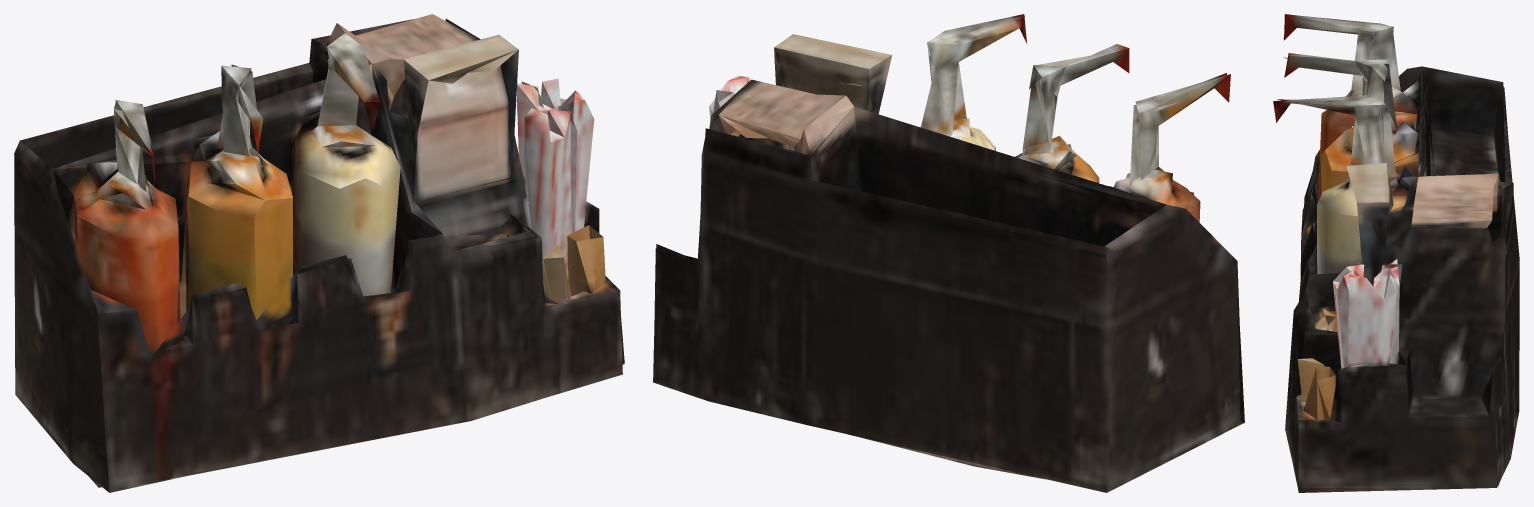
File: p7-condiment-station.glb
The picture shows the model from 3 angles, left to right: view 1: azimuth 30°, elevation 25°; view 2: azimuth 150°, elevation 25°; view 3: azimuth 270°, elevation 25°; orthographic projection. The views are drawn at different scales.
Visible parts, largest first — view 1: p7-condiment-station; view 2: p7-condiment-station; view 3: p7-condiment-station.
Part boxes in pixels (x1,y1,x2,y2): p7-condiment-station: [14, 14, 624, 492]; p7-condiment-station: [653, 14, 1244, 492]; p7-condiment-station: [1273, 14, 1519, 492].
Bounding box in the file's own units: 0.6 × 0.4 × 0.2983.
1 material, 1 textured.
